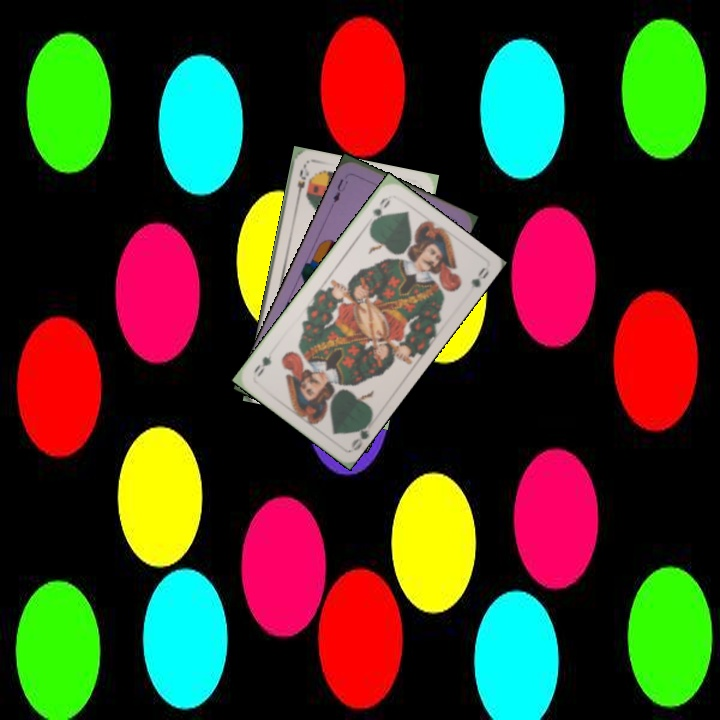EU: (329, 175, 351, 205)
GO: (347, 416, 374, 453), (366, 193, 393, 229)
SO: (293, 163, 312, 203)
